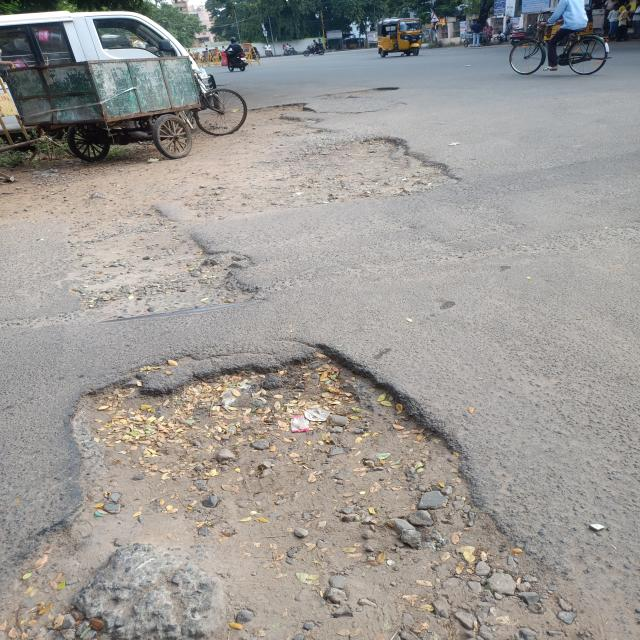potholes: (0, 336, 582, 640), (15, 134, 469, 316)
